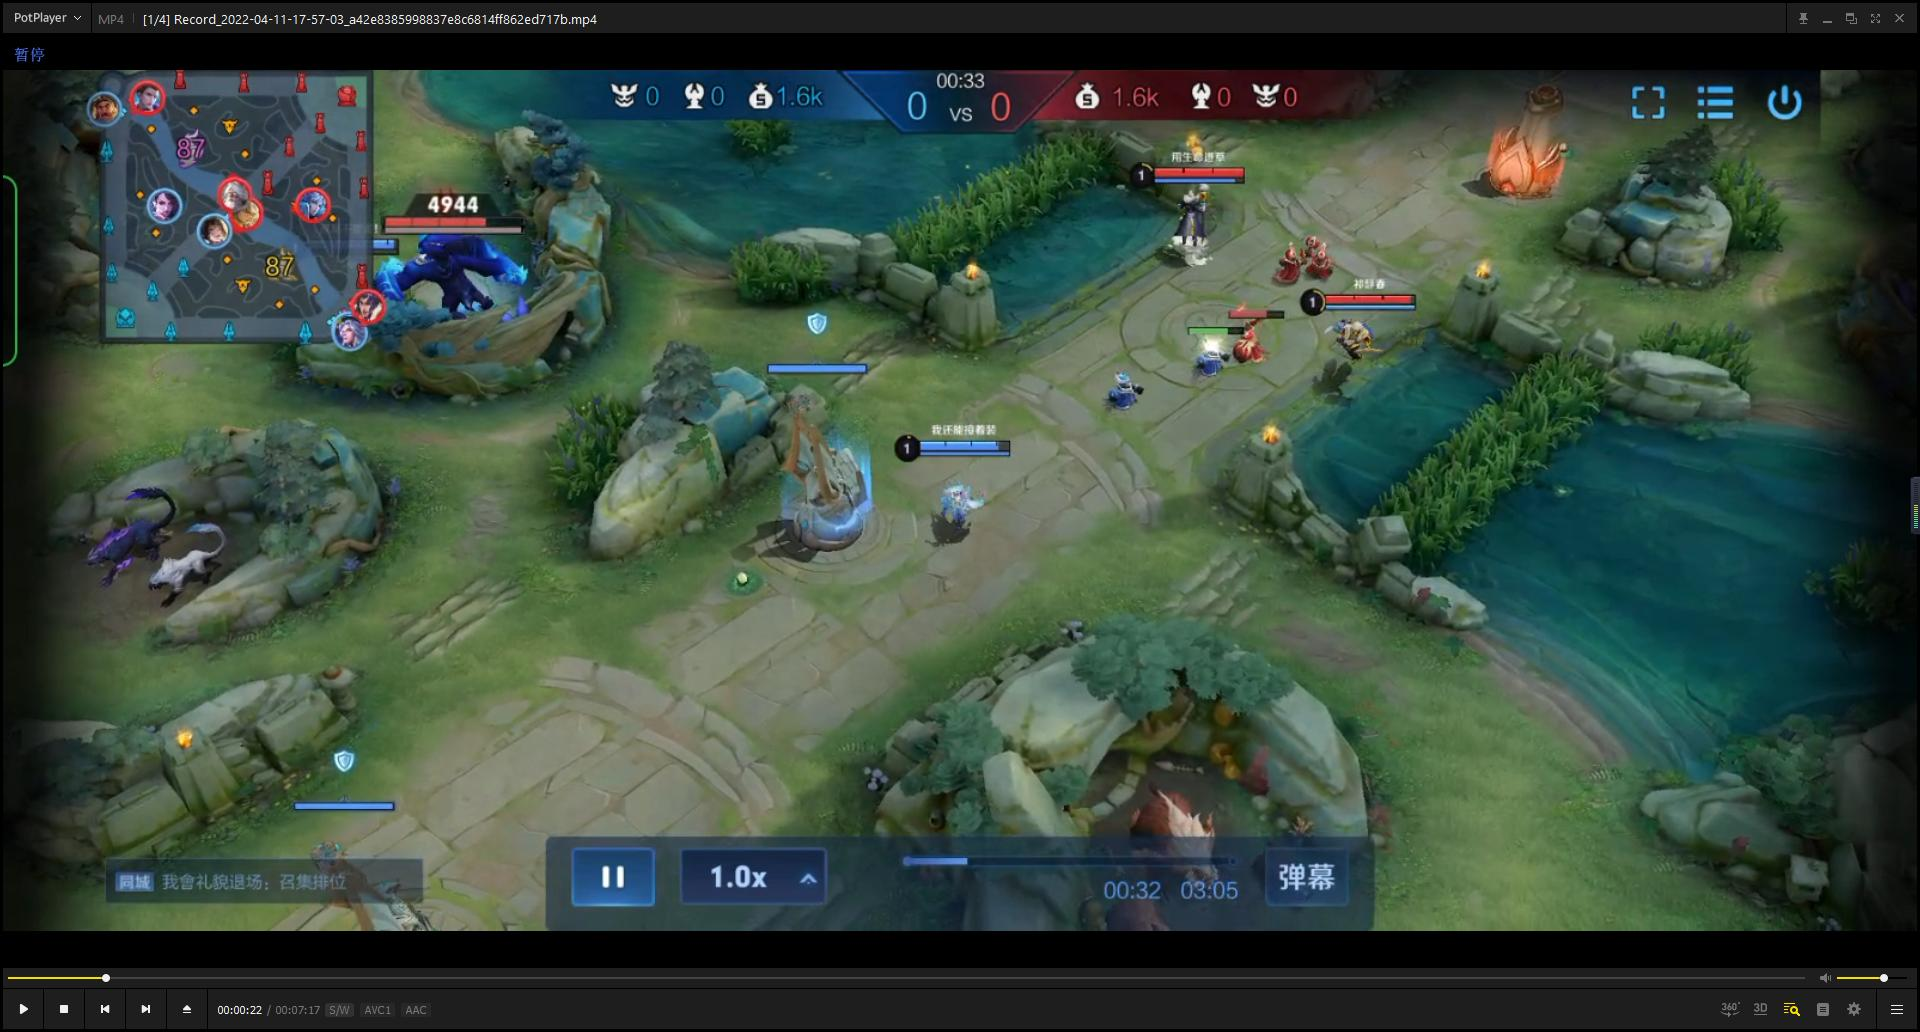Buff: (353, 207, 553, 330)
Hero: (1150, 189, 1249, 278), (1313, 318, 1405, 386), (924, 461, 1003, 535)
Pig: (1114, 768, 1276, 904), (1058, 877, 1219, 932)
Solider: (1212, 305, 1302, 386), (1175, 318, 1247, 386), (1097, 363, 1169, 422), (1299, 211, 1351, 287), (1258, 230, 1309, 296)
Tower: (750, 341, 901, 571), (1459, 85, 1585, 222)
Wolf: (142, 527, 292, 641), (62, 463, 170, 585)
